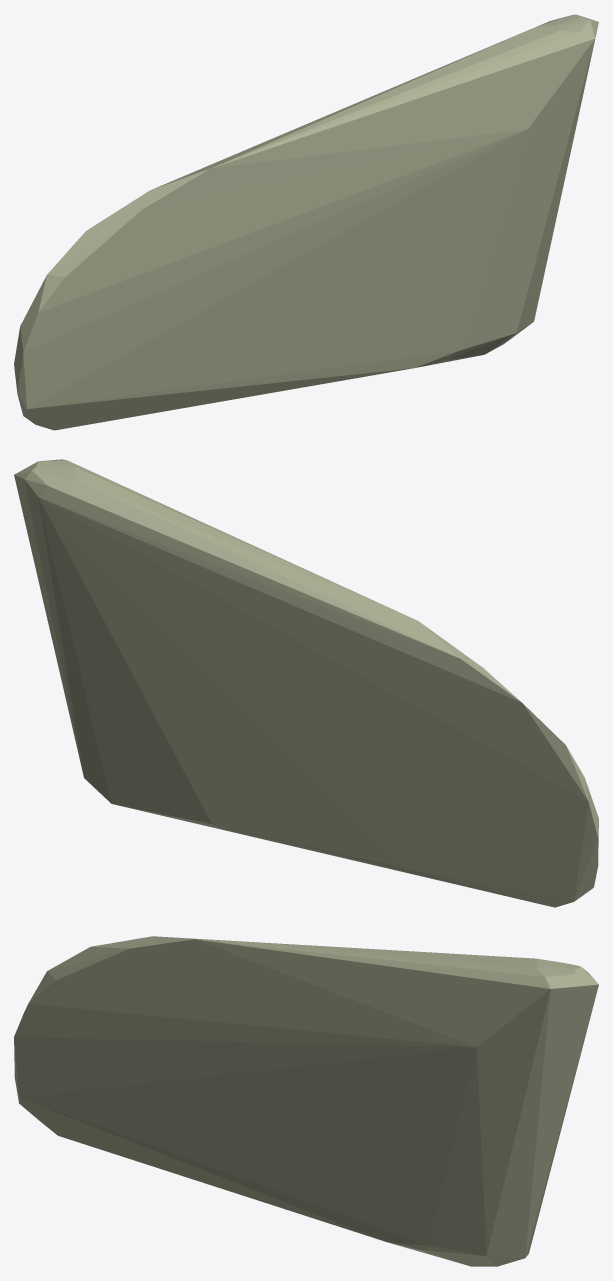
Rendered from equipment_extension_12v_a01.glb.
3 views of the same model, one above another, from view 1: azimuth 30°, elevation 25°; view 2: azimuth 150°, elevation 25°; view 3: azimuth 330°, elevation 25° (orthographic). The views are drawn at different scales.
Visible parts, largest first — view 1: geometry_0; view 2: geometry_0; view 3: geometry_0.
Part boxes in pixels (left/top/right/bottom): geometry_0: left=14, top=14, right=598, bottom=430; geometry_0: left=14, top=459, right=598, bottom=907; geometry_0: left=14, top=936, right=598, bottom=1266.
Bounding box in the file's own units: 0.4787 × 0.2469 × 0.0484.
